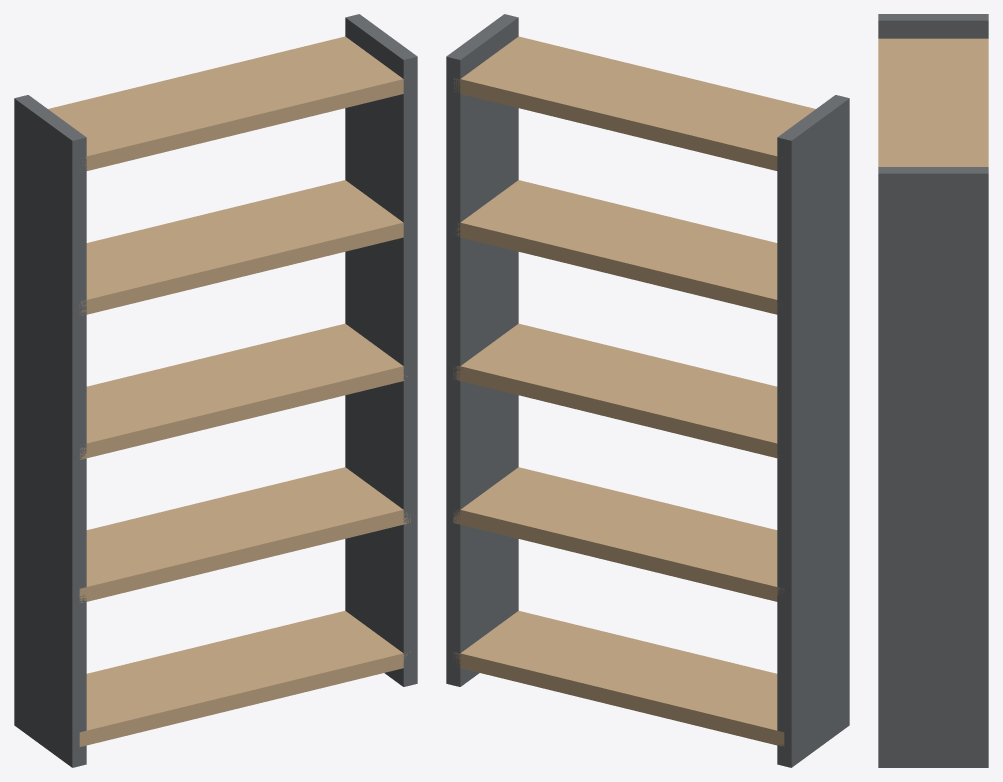
Rendered from shelf_05.glb.
3 renders of one model, left to right at view 1: azimuth 30°, elevation 25°; view 2: azimuth 150°, elevation 25°; view 3: azimuth 270°, elevation 25°, orthographic. The views are drawn at different scales.
Visible parts, largest first — view 1: side-0.525, side0.525, shelf4, shelf1, shelf0, shelf2, shelf3; view 2: side-0.525, side0.525, shelf4, shelf0, shelf1, shelf2, shelf3; view 3: side0.525, shelf4, side-0.525.
Part boxes in pixels (box(x1,y1,x2,y2)): side-0.525: box(14, 95, 86, 767); side0.525: box(345, 14, 417, 686); shelf4: box(48, 36, 403, 170); shelf1: box(79, 467, 410, 602); shelf0: box(79, 611, 410, 746); shelf2: box(80, 323, 407, 459); shelf3: box(79, 180, 403, 315); side-0.525: box(777, 95, 849, 767); side0.525: box(446, 14, 518, 686); shelf4: box(453, 36, 815, 170); shelf0: box(453, 611, 784, 746); shelf1: box(453, 467, 784, 601); shelf2: box(453, 323, 779, 458); shelf3: box(454, 180, 777, 314); side0.525: box(878, 167, 988, 767); shelf4: box(878, 38, 988, 166); side-0.525: box(878, 14, 988, 38).
Size of the model in its own units: 1.1 by 1.9 by 0.32.
